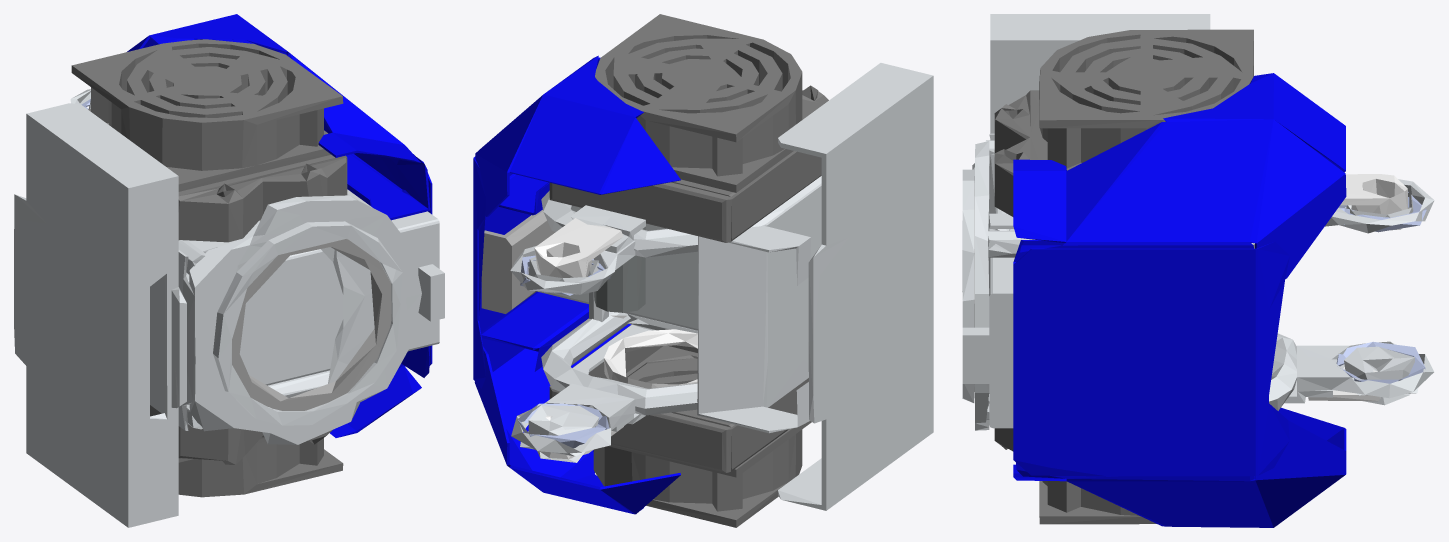
File: CHEST_LINK1_mesh.dae
The picture shows the model from 3 angles, left to right: view 1: azimuth 30°, elevation 25°; view 2: azimuth 150°, elevation 25°; view 3: azimuth 270°, elevation 25°; orthographic projection. The views are drawn at different scales.
Visible parts, largest first — view 1: CHEST_LINK1 (×11); view 2: CHEST_LINK1 (×17); view 3: CHEST_LINK1 (×14).
Part boxes in pixels (<box>): CHEST_LINK1 (×11): <box>14,14,444,527</box>; CHEST_LINK1 (×17): <box>473,14,933,527</box>; CHEST_LINK1 (×14): <box>962,14,1434,527</box>.
Size of the model in its own units: 0.219 by 0.2521 by 0.2639.
